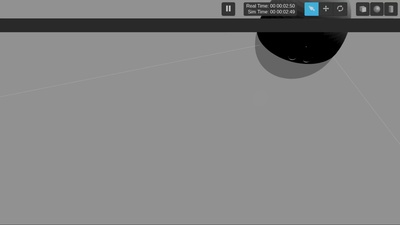mira_robot: (256, 33, 348, 78)
